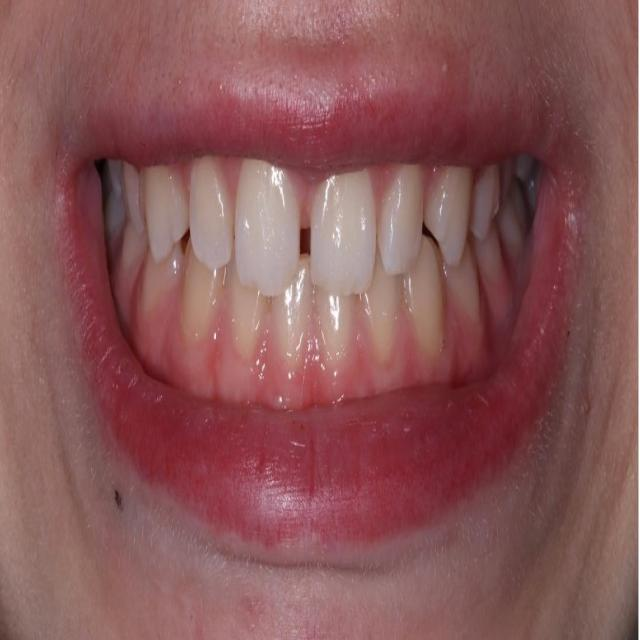tooth: (233, 148, 297, 278), (328, 148, 371, 278), (139, 164, 184, 233), (382, 173, 419, 253), (186, 162, 228, 232), (186, 244, 222, 322), (442, 250, 484, 314), (228, 273, 262, 348), (368, 281, 400, 356), (406, 266, 444, 328), (426, 181, 466, 229), (488, 245, 510, 331), (317, 284, 346, 342), (144, 258, 176, 307), (472, 162, 498, 220)
